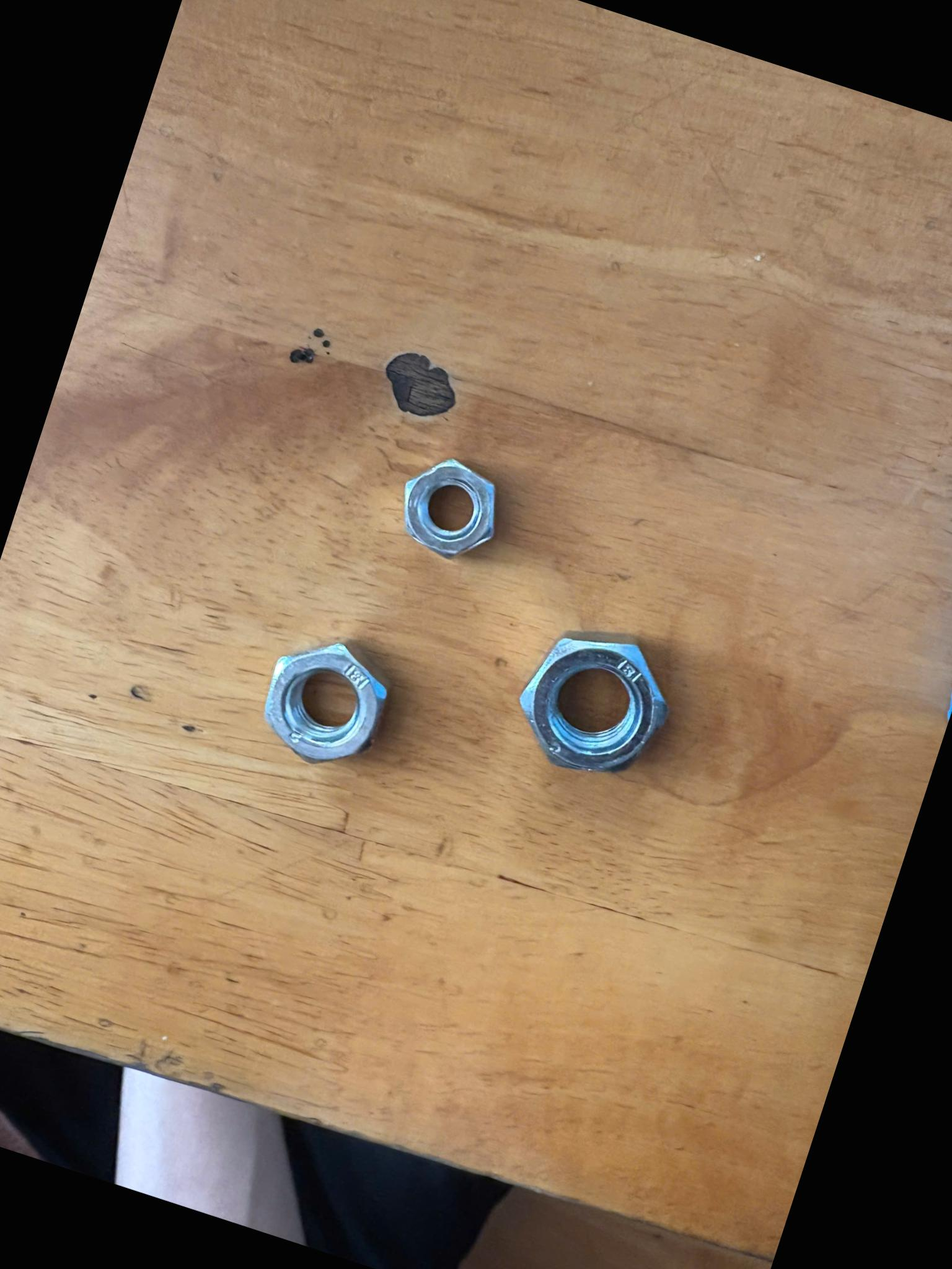nut: (496, 612, 701, 806), (366, 436, 521, 599)
